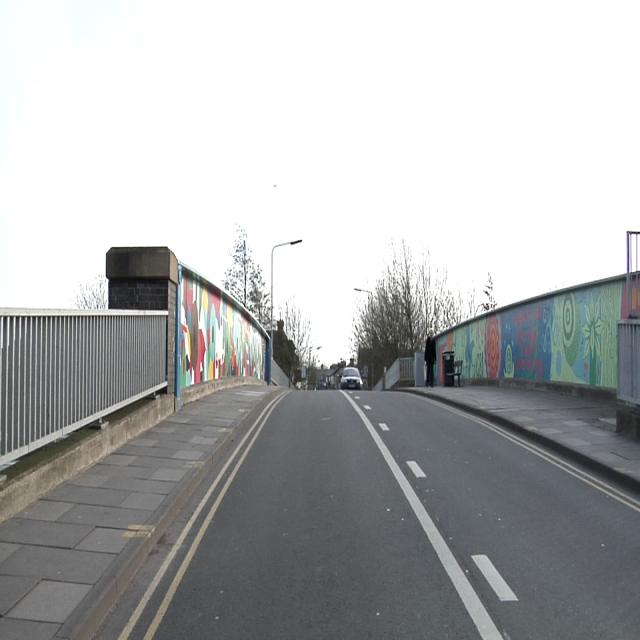Car: (340, 367, 361, 389)
Road: (136, 389, 635, 637)
Tree: (350, 240, 492, 380), (280, 296, 319, 386), (70, 275, 107, 310)
person: (425, 330, 436, 386)
